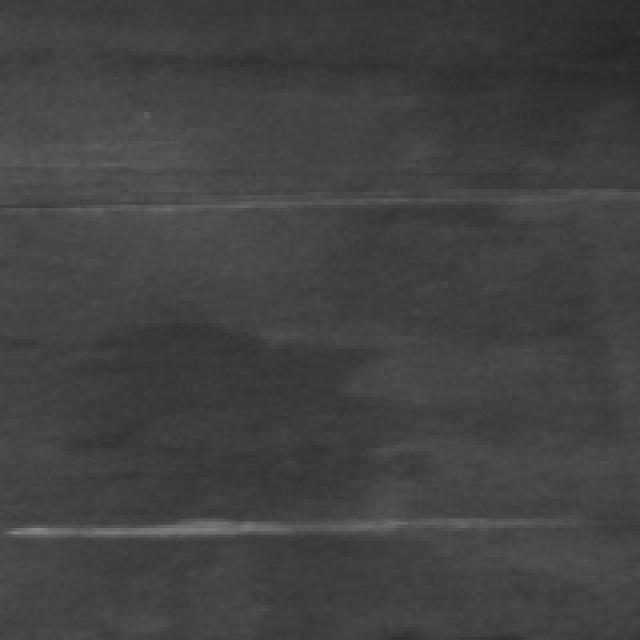scratches: (3, 499, 573, 544)
